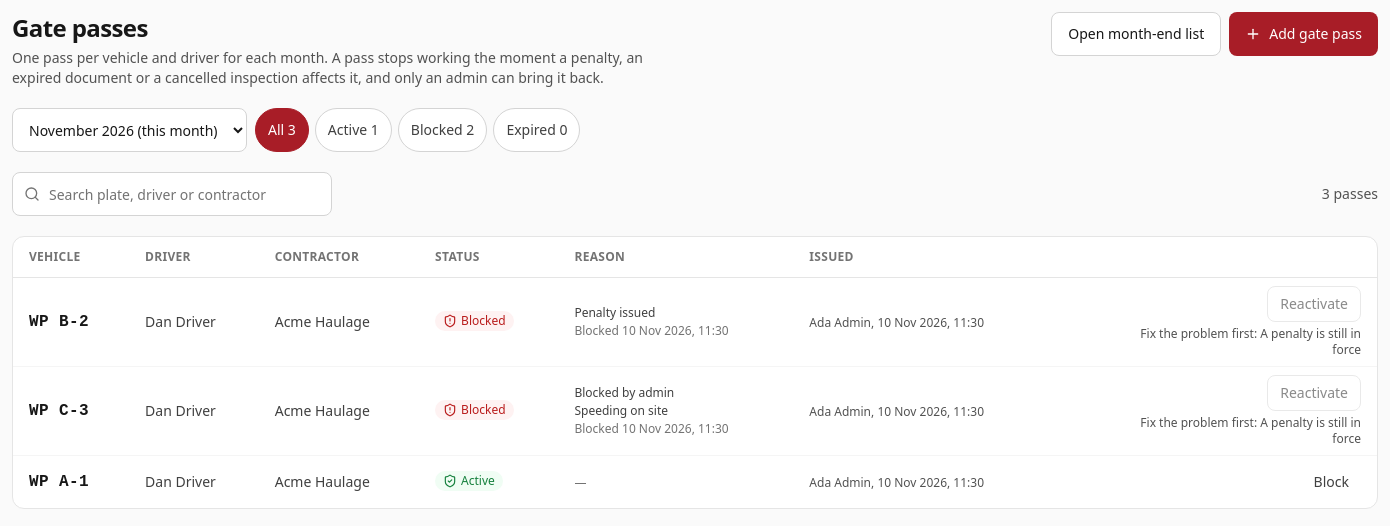
Test case: GatePassesPage (Company Admin overview) › lists the month’s passes, filters by status and shows why a pass is blocked
Expected: the text "Penalty issued" is shown, [574, 304, 655, 321]
Expected: the text "Speeding on site" is shown, [574, 402, 668, 419]
Click the button "Active 1": point(353, 130) [315, 108, 392, 152]
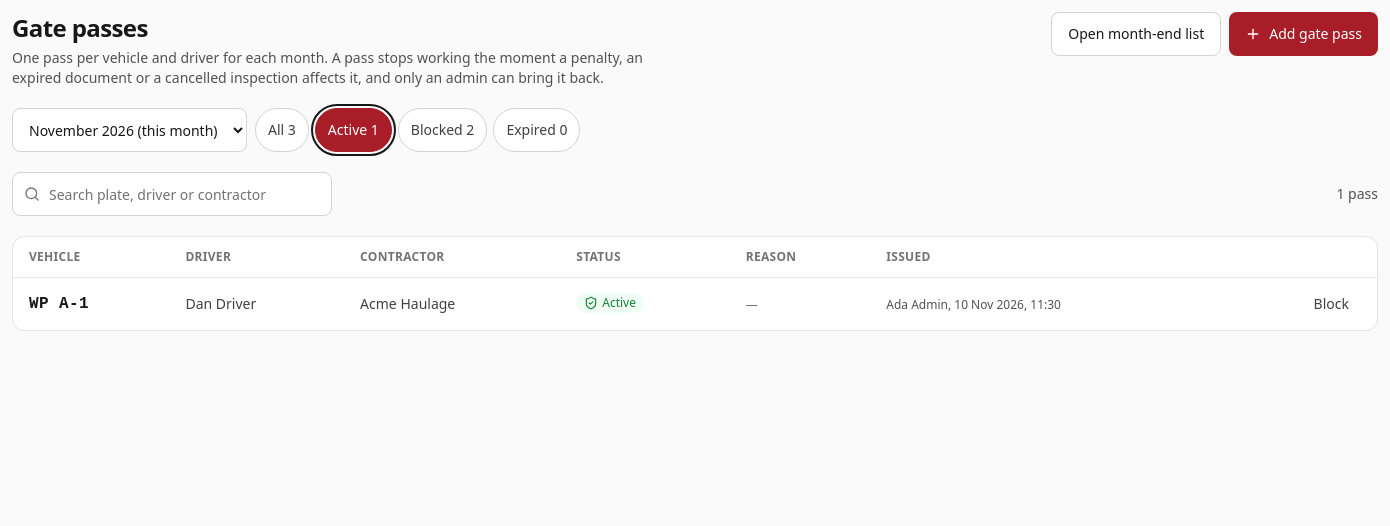
Expected: the text "WP A-1" is shown, [29, 295, 89, 313]
Expected: the text "WP B-2" is not shown
Click the button "Blocked 2": point(443, 130) [398, 108, 487, 152]
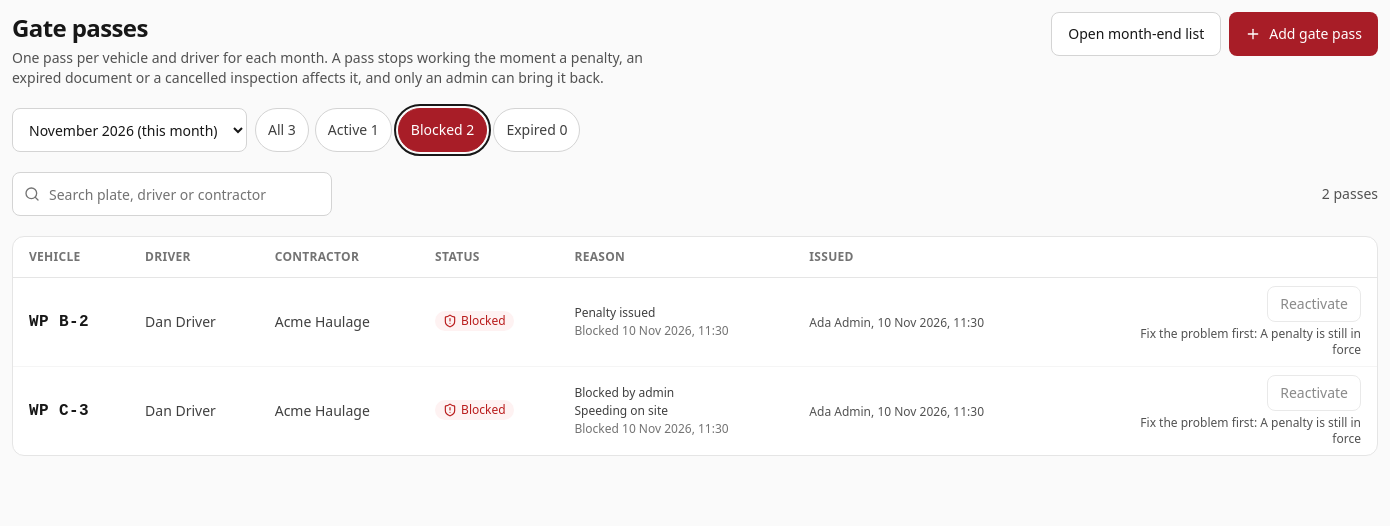
Expected: the text "WP A-1" is not shown
